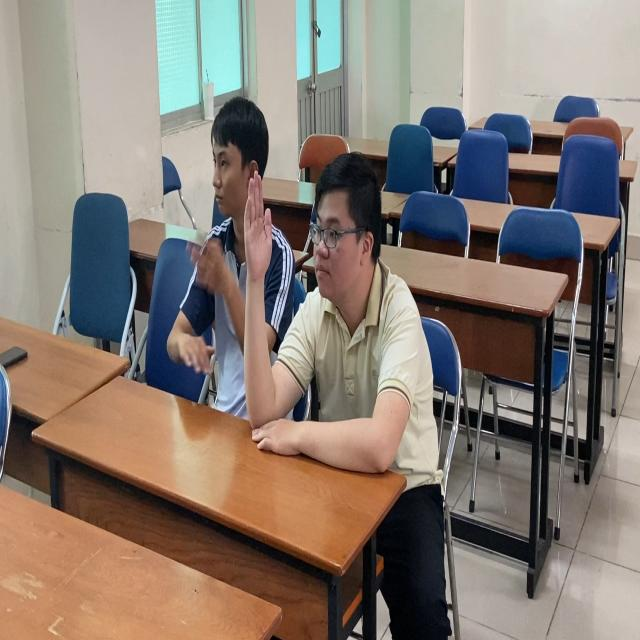raise_hand: (246, 153, 413, 481)
